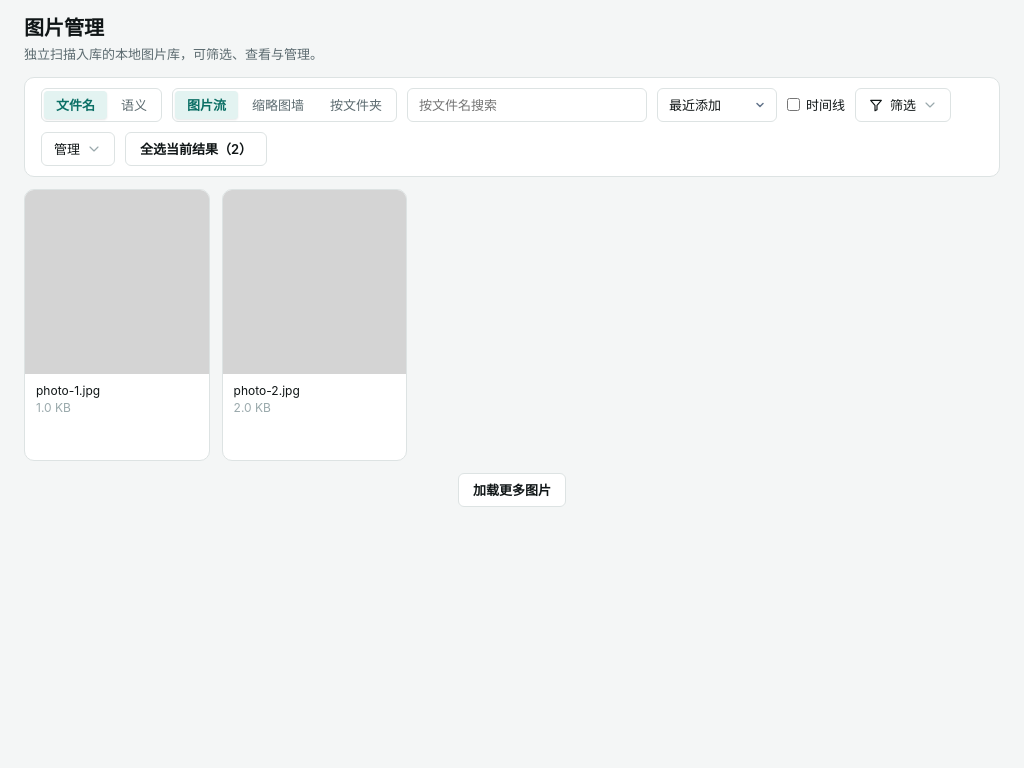
Scenario: PhotoLibraryPage grid paging › resets the cursor and replaces the list when a filter changes
Click the button with test id "photo-filter-open".
click(903, 104)  # box x1=855 y1=88 x2=951 y2=122
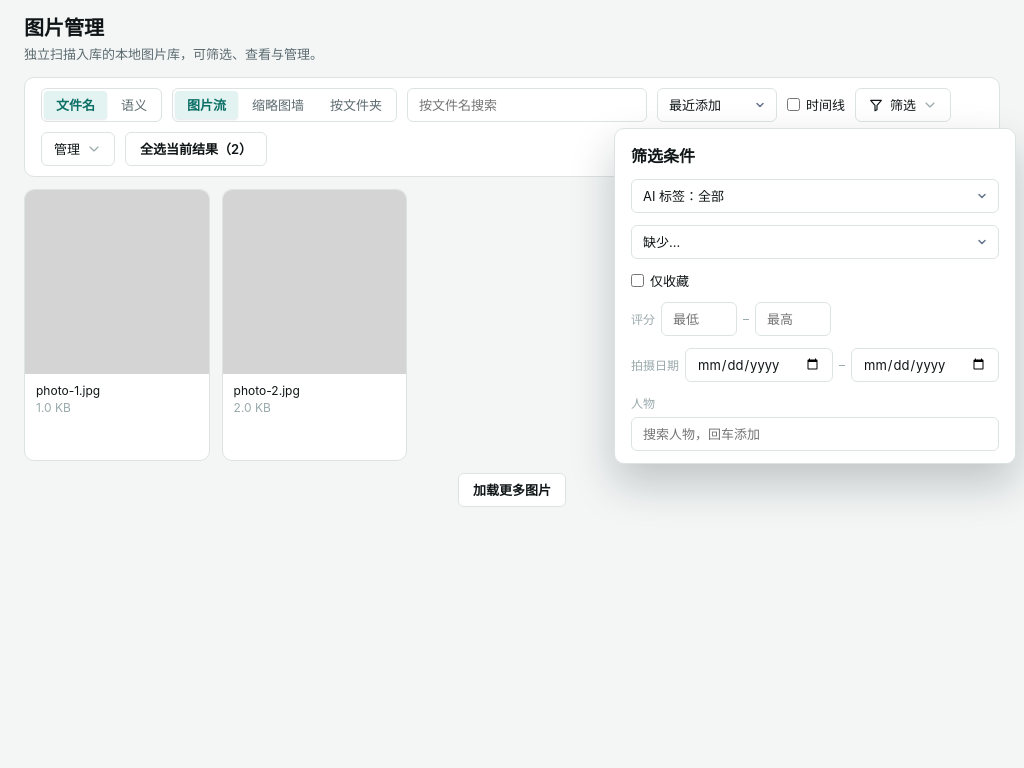
Click the checkbox with test id "photo-favorite-only".
click(638, 280)  # box x1=631 y1=274 x2=644 y2=286
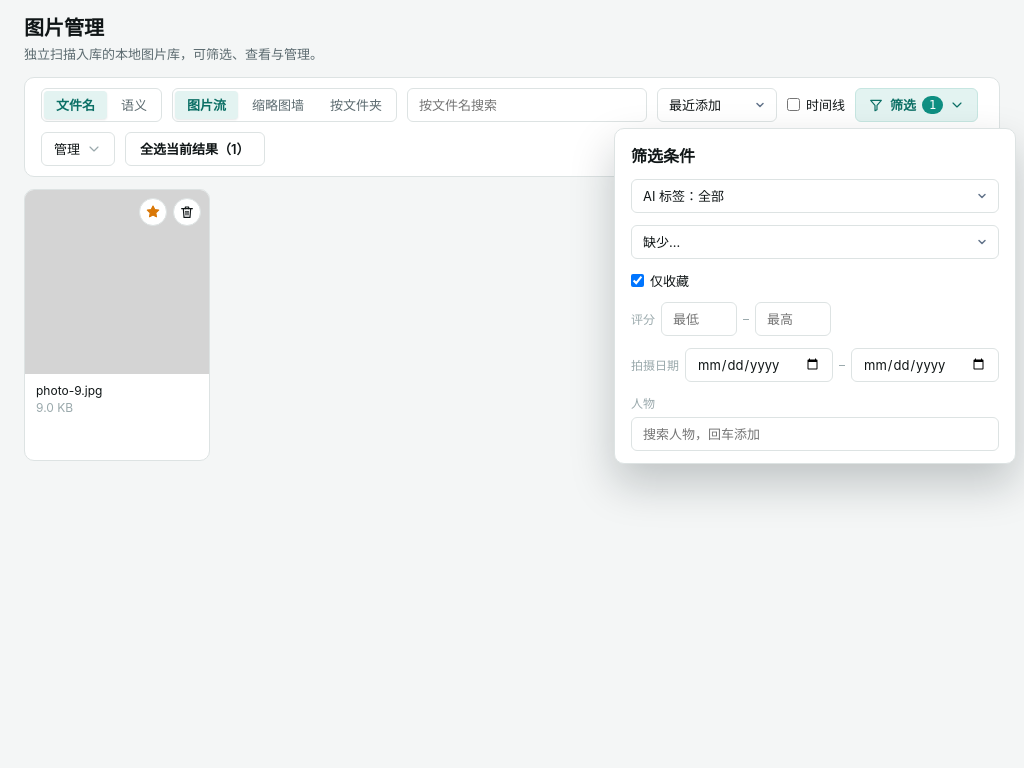
Expected: the text "photo-9.jpg" is shown, x1=36 y1=382 x2=102 y2=398
